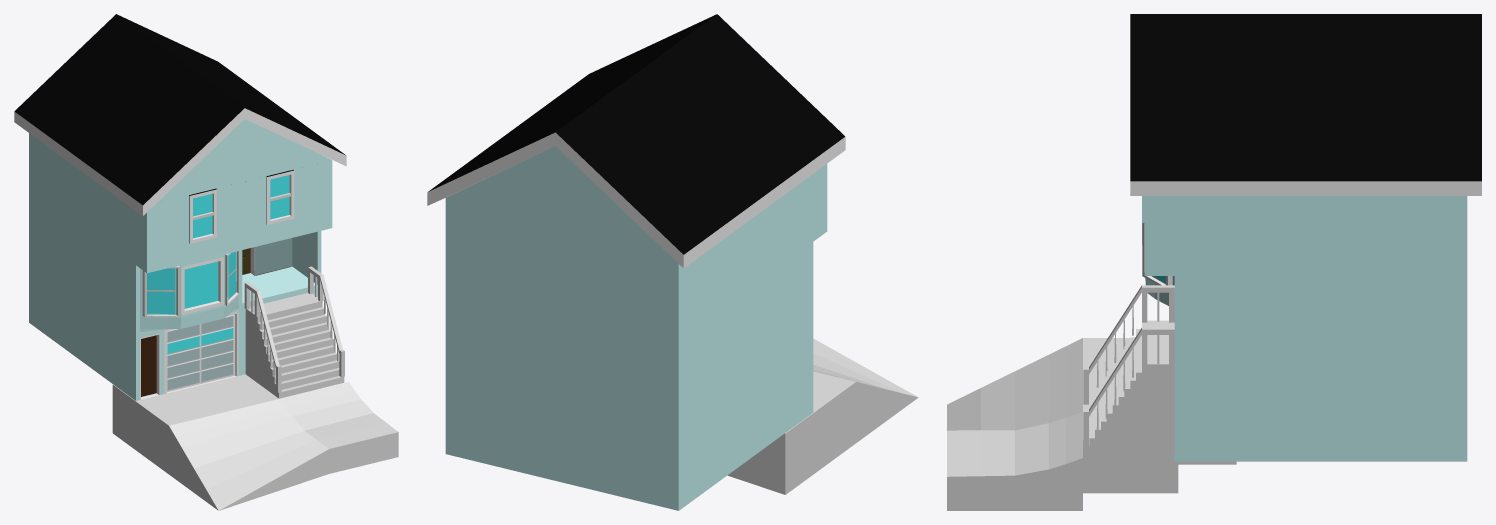
Rendered from sf_house2_mirror.glb.
The picture shows the model from 3 angles, left to right: view 1: azimuth 30°, elevation 25°; view 2: azimuth 150°, elevation 25°; view 3: azimuth 270°, elevation 25°; orthographic projection. The views are drawn at different scales.
Visible parts, largest first — view 1: building_003, Cube, walls; view 2: building_003, Cube; view 3: building_003, Cube.
Boxes of the visible parts, x1,y1,x2,y2 form: building_003: [14, 14, 346, 400]; Cube: [112, 374, 398, 510]; walls: [242, 238, 292, 275]; building_003: [427, 14, 845, 510]; Cube: [727, 338, 918, 494]; building_003: [1083, 14, 1481, 461]; Cube: [947, 338, 1236, 510].
Bounding box in the file's own units: 11 × 17.08 × 18.28.
